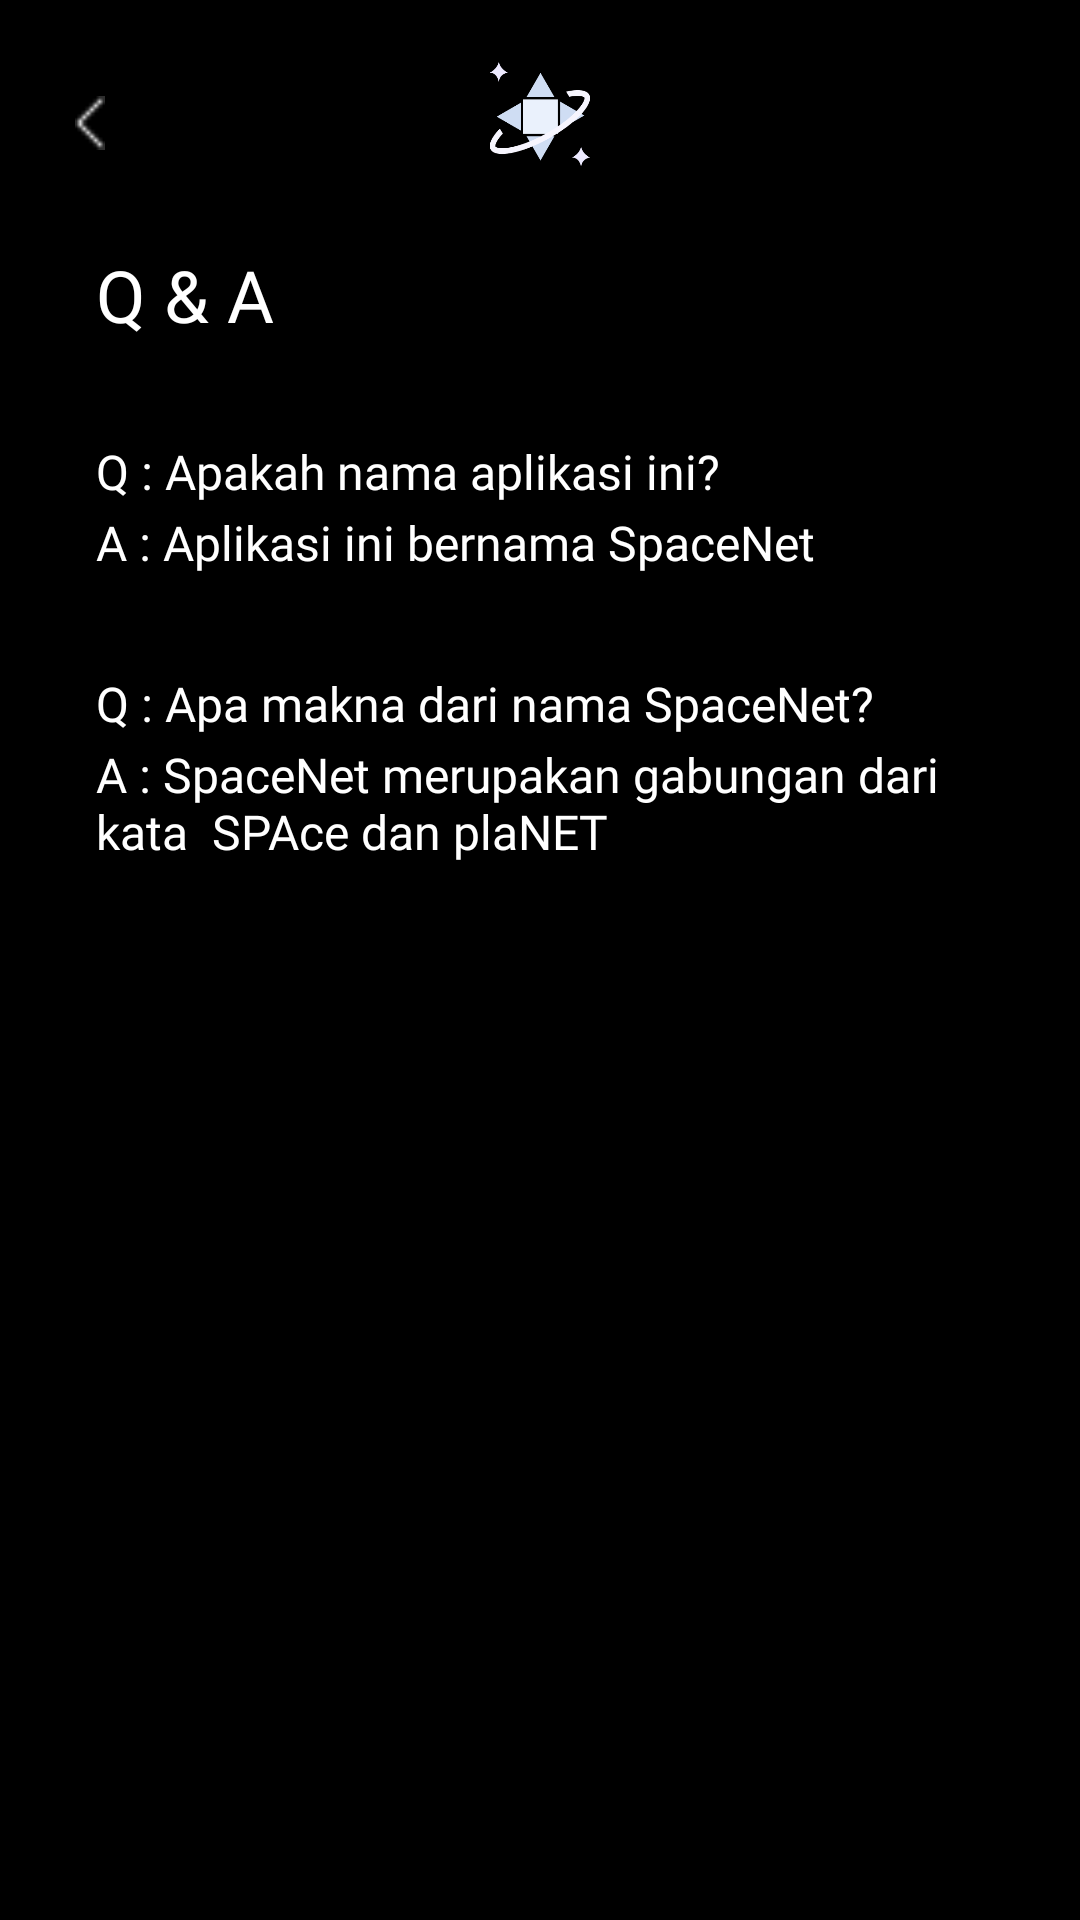

Named icons in this screenshot (1080px x 1920px) and their centers, point (x, y):
back: point (90, 123)
